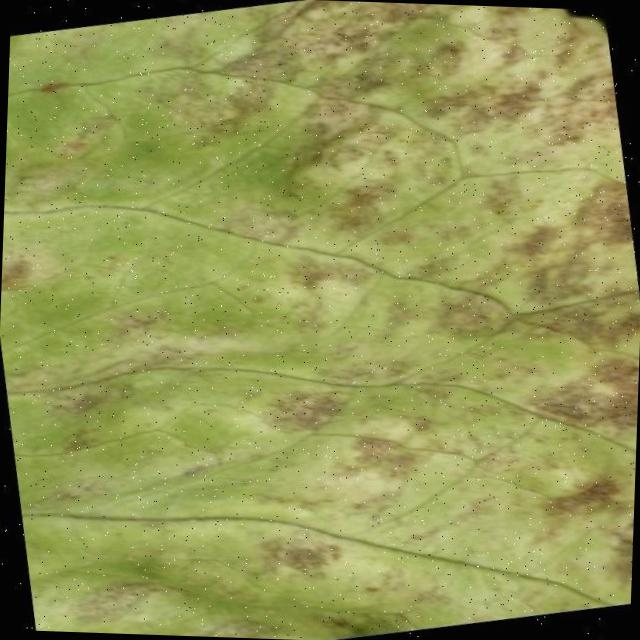Septoria_Blight: (116, 0, 640, 640)
